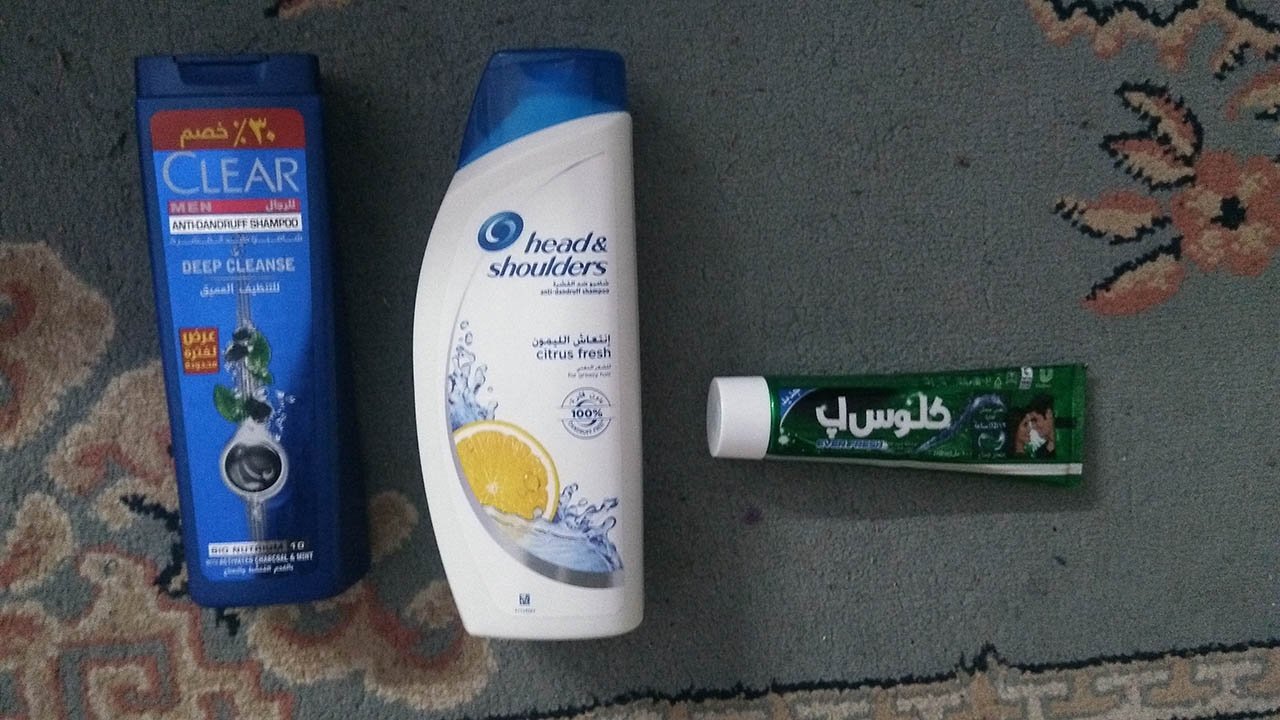Shampoo-Clear 4.7$: (126, 40, 377, 603)
Toothpaste-Closeup 3.04$: (702, 368, 1093, 476)
shampoo-Lemon 3.5$: (395, 34, 653, 650)
